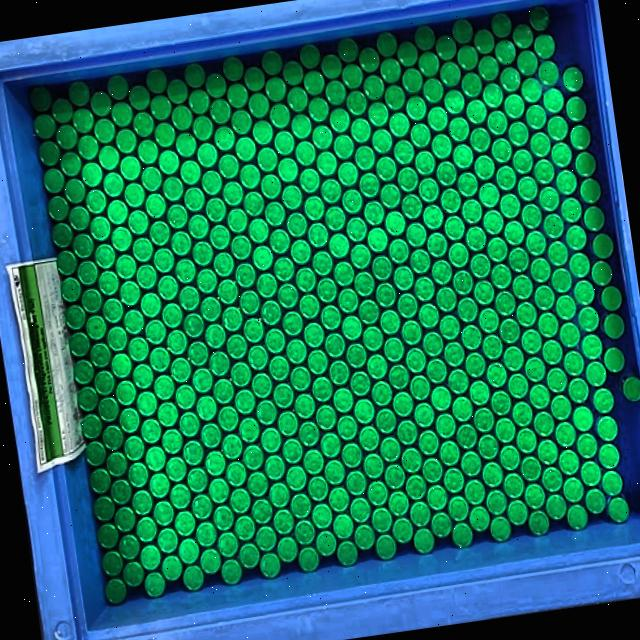vial: (607, 498, 632, 524), (414, 25, 438, 51), (528, 6, 552, 32), (534, 34, 558, 60), (311, 250, 334, 277), (602, 469, 625, 496), (593, 232, 615, 260), (364, 200, 386, 228), (252, 498, 274, 526), (564, 350, 586, 378), (297, 44, 321, 69), (546, 116, 570, 141), (348, 371, 372, 396), (363, 74, 386, 100), (579, 178, 602, 204), (440, 188, 463, 214), (426, 232, 449, 258), (72, 232, 95, 258), (366, 354, 389, 380), (358, 426, 381, 452), (163, 175, 185, 202), (444, 88, 466, 115), (466, 99, 488, 126), (312, 124, 334, 151), (560, 322, 582, 349), (291, 238, 312, 266), (296, 266, 317, 294), (166, 456, 187, 484), (28, 88, 52, 112), (452, 20, 476, 44), (260, 428, 284, 452), (596, 418, 620, 442), (72, 109, 95, 134), (329, 233, 352, 258), (307, 223, 330, 248), (111, 102, 133, 128), (124, 182, 146, 208), (78, 135, 100, 161), (81, 162, 103, 188), (376, 32, 398, 58), (522, 78, 544, 104), (470, 128, 492, 154), (428, 106, 450, 132), (346, 89, 368, 115), (538, 62, 560, 88), (543, 89, 565, 115), (530, 130, 552, 156), (397, 167, 419, 193), (380, 184, 402, 210), (401, 194, 423, 220), (457, 172, 479, 198), (538, 187, 560, 213), (560, 198, 582, 224), (444, 216, 466, 242), (547, 241, 569, 267), (530, 258, 552, 284), (474, 280, 496, 306), (440, 314, 462, 340), (384, 210, 406, 236), (325, 206, 347, 232), (304, 195, 326, 221), (304, 322, 326, 348), (264, 201, 286, 227), (260, 300, 282, 326), (188, 215, 210, 241), (157, 528, 179, 554), (521, 329, 543, 355), (444, 468, 466, 494), (593, 389, 615, 415), (422, 77, 443, 104), (368, 101, 389, 128), (150, 220, 171, 247), (150, 472, 170, 500), (562, 68, 585, 92), (591, 261, 614, 285), (401, 320, 424, 344), (578, 308, 601, 332), (228, 84, 250, 109), (230, 110, 252, 135), (222, 182, 244, 207), (132, 112, 154, 137), (461, 73, 483, 98), (517, 51, 539, 76), (449, 117, 471, 142), (316, 151, 338, 176), (552, 142, 574, 167), (556, 170, 578, 195), (436, 161, 458, 186), (504, 222, 526, 247), (392, 266, 414, 291), (342, 316, 364, 341), (317, 278, 339, 303), (270, 230, 292, 255), (226, 334, 248, 359), (192, 241, 214, 266), (69, 331, 91, 356), (140, 419, 162, 444), (196, 522, 218, 547), (573, 406, 595, 431), (146, 68, 167, 94), (253, 120, 274, 146), (478, 56, 499, 82), (406, 96, 427, 122), (500, 66, 521, 92), (411, 122, 432, 148), (389, 112, 410, 138), (372, 129, 393, 155), (351, 118, 372, 144), (325, 80, 346, 106), (479, 183, 500, 209), (584, 206, 605, 232), (552, 268, 573, 294), (419, 303, 440, 329), (359, 299, 380, 325), (334, 260, 355, 286), (338, 288, 359, 314), (265, 328, 286, 354), (201, 296, 222, 322), (98, 396, 119, 422), (105, 578, 126, 604), (414, 402, 435, 428), (426, 358, 447, 384), (449, 496, 470, 522), (219, 153, 239, 180), (292, 114, 312, 141), (218, 406, 238, 433), (535, 411, 555, 438), (530, 511, 550, 538), (68, 82, 90, 106), (107, 76, 129, 100), (274, 132, 296, 156), (282, 186, 304, 210), (180, 161, 202, 185), (298, 169, 320, 193), (566, 96, 588, 120), (570, 126, 592, 150), (512, 151, 534, 175), (544, 216, 566, 240), (566, 226, 588, 250), (534, 286, 556, 310), (486, 238, 508, 262), (448, 242, 470, 266), (422, 204, 444, 228), (388, 240, 410, 264), (359, 172, 381, 196), (376, 284, 398, 308), (286, 213, 308, 237), (299, 294, 321, 318), (274, 257, 296, 281), (282, 314, 304, 338), (256, 273, 278, 297), (230, 236, 252, 260), (235, 264, 257, 288), (209, 225, 231, 249), (76, 260, 98, 284), (64, 306, 86, 330), (154, 374, 176, 398), (84, 441, 106, 465), (106, 452, 128, 476), (154, 502, 176, 526), (182, 566, 204, 590), (268, 356, 290, 380), (504, 347, 526, 371), (508, 501, 530, 525), (586, 362, 608, 386), (568, 378, 590, 402), (577, 434, 599, 458), (582, 336, 604, 360), (155, 123, 176, 148), (91, 92, 112, 117), (104, 173, 125, 198), (90, 216, 111, 241), (526, 105, 547, 130), (377, 155, 398, 180), (482, 210, 503, 235), (574, 280, 595, 305), (517, 302, 538, 327), (478, 308, 499, 333), (290, 368, 311, 393), (393, 391, 414, 416), (448, 369, 469, 394), (304, 449, 325, 474), (48, 196, 68, 222), (394, 140, 414, 166), (330, 108, 350, 134), (334, 134, 354, 160), (338, 162, 358, 188), (570, 252, 590, 278), (458, 298, 478, 324), (432, 260, 452, 286), (414, 276, 434, 302), (398, 292, 418, 318), (372, 255, 392, 281), (342, 189, 362, 215), (355, 271, 375, 297), (176, 258, 196, 284), (180, 286, 200, 312), (163, 302, 183, 328), (232, 362, 252, 388), (372, 380, 392, 406), (466, 479, 486, 505), (526, 484, 546, 510), (316, 532, 336, 558), (432, 512, 452, 538), (140, 167, 162, 190), (34, 115, 56, 138), (320, 180, 342, 203), (252, 247, 274, 270), (132, 365, 154, 388), (162, 431, 184, 454), (222, 561, 244, 584), (252, 374, 274, 397), (556, 423, 578, 446), (276, 412, 298, 435), (600, 445, 622, 468), (223, 58, 244, 82), (249, 94, 270, 118), (240, 166, 261, 190), (206, 74, 227, 98), (176, 134, 197, 158), (117, 130, 138, 154), (95, 120, 116, 144), (86, 190, 107, 214), (381, 59, 402, 83), (385, 86, 406, 110), (342, 64, 363, 88), (355, 146, 376, 170), (308, 98, 329, 122), (288, 88, 309, 112), (295, 142, 316, 166), (534, 160, 555, 184), (475, 156, 496, 180), (432, 135, 453, 159), (419, 178, 440, 202), (526, 232, 547, 256), (508, 249, 529, 273), (512, 276, 533, 300), (436, 288, 457, 312), (406, 222, 427, 246), (320, 306, 341, 330), (278, 284, 299, 308), (243, 318, 264, 342), (213, 252, 234, 276), (205, 324, 226, 348), (133, 238, 154, 262), (95, 244, 116, 268), (141, 294, 162, 318), (81, 289, 102, 313), (213, 379, 234, 403), (91, 344, 112, 368), (104, 426, 125, 450), (158, 402, 179, 426), (136, 518, 157, 542), (119, 534, 140, 558), (175, 511, 196, 535), (162, 556, 183, 580), (209, 479, 230, 503), (247, 472, 268, 496), (457, 424, 478, 448), (328, 361, 349, 385), (431, 387, 452, 411), (467, 353, 488, 377), (504, 472, 525, 496), (546, 496, 567, 520), (202, 171, 222, 196), (172, 106, 192, 131), (38, 141, 58, 166), (505, 95, 525, 120), (304, 71, 324, 96), (576, 153, 596, 178), (496, 165, 516, 190), (466, 226, 486, 251), (410, 249, 430, 274), (351, 245, 371, 270), (248, 218, 268, 243), (154, 248, 174, 273), (120, 281, 140, 306), (102, 298, 122, 323), (146, 319, 166, 344), (74, 359, 94, 384), (115, 508, 135, 533), (377, 409, 397, 434), (436, 413, 456, 438), (496, 419, 516, 444), (543, 341, 563, 366), (272, 383, 292, 408), (342, 443, 362, 468), (282, 439, 302, 464), (287, 466, 307, 491), (329, 487, 349, 512), (346, 471, 366, 496), (368, 481, 388, 506), (410, 502, 430, 527), (568, 506, 588, 531), (339, 38, 358, 64), (57, 250, 76, 276), (193, 494, 212, 520), (382, 436, 401, 462), (116, 382, 138, 404), (140, 546, 162, 568), (238, 544, 260, 566), (238, 419, 260, 441), (380, 311, 402, 333), (294, 394, 316, 416), (185, 64, 206, 87), (492, 15, 513, 38), (419, 52, 440, 75), (483, 85, 504, 108), (556, 297, 577, 320), (94, 371, 115, 394), (290, 494, 311, 517), (257, 401, 278, 424), (474, 409, 495, 432), (350, 499, 371, 522), (332, 516, 353, 539), (262, 52, 282, 76), (266, 78, 286, 102), (270, 104, 290, 128), (245, 68, 265, 92), (258, 147, 278, 171), (262, 174, 282, 198), (244, 192, 264, 216), (210, 100, 230, 124), (214, 127, 234, 151), (194, 116, 214, 140), (197, 143, 217, 167), (168, 80, 188, 104), (184, 188, 204, 212), (158, 150, 178, 174), (138, 140, 158, 164), (146, 194, 166, 218), (129, 210, 149, 234), (100, 146, 120, 170), (108, 200, 128, 224), (44, 170, 64, 194), (52, 224, 72, 248), (496, 40, 516, 64), (458, 46, 478, 70), (436, 36, 456, 60), (440, 64, 460, 88), (398, 42, 418, 66), (402, 70, 422, 94), (488, 112, 508, 136), (322, 55, 342, 79), (508, 122, 528, 146), (492, 138, 512, 162), (454, 144, 474, 168), (415, 152, 435, 176), (501, 194, 521, 218), (522, 204, 542, 228), (462, 200, 482, 224), (602, 286, 622, 310), (492, 266, 512, 290), (496, 292, 516, 316), (470, 254, 490, 278), (346, 218, 366, 242), (240, 292, 260, 316), (222, 307, 242, 331), (112, 228, 132, 252), (60, 279, 80, 303), (116, 254, 136, 278), (171, 358, 191, 382), (210, 351, 230, 375), (176, 386, 196, 410), (128, 338, 148, 362), (112, 354, 132, 378), (78, 387, 98, 411), (124, 437, 144, 461), (102, 552, 122, 576), (179, 540, 199, 564), (231, 489, 251, 513), (219, 533, 239, 557), (259, 554, 279, 578), (256, 526, 276, 550), (274, 511, 294, 535), (270, 483, 290, 507), (265, 456, 285, 480), (324, 334, 344, 358), (500, 320, 520, 344), (462, 452, 482, 476), (500, 446, 520, 470), (410, 376, 430, 400), (513, 402, 533, 426), (470, 382, 490, 406), (444, 342, 464, 366), (509, 375, 529, 399), (542, 468, 562, 492), (299, 422, 319, 446), (364, 454, 384, 478), (406, 476, 426, 500), (428, 486, 448, 510), (312, 504, 332, 528), (326, 460, 346, 484), (376, 536, 396, 560), (392, 519, 412, 543), (415, 530, 435, 554), (491, 518, 511, 542), (389, 490, 408, 515), (338, 542, 357, 567), (582, 460, 601, 485), (190, 88, 208, 114), (125, 311, 146, 333), (201, 424, 222, 446), (244, 446, 265, 468), (539, 314, 560, 336), (516, 430, 537, 452), (422, 460, 443, 482), (385, 465, 406, 487), (605, 350, 626, 372), (168, 205, 188, 228), (130, 88, 150, 111), (120, 157, 140, 180), (54, 99, 74, 122), (514, 25, 534, 48), (368, 229, 388, 252), (228, 209, 248, 232), (166, 331, 186, 354), (184, 315, 204, 338), (192, 368, 212, 391), (235, 390, 255, 413), (196, 397, 216, 420), (150, 348, 170, 371), (120, 409, 140, 432), (180, 414, 200, 437), (94, 498, 114, 521), (123, 563, 143, 586), (214, 506, 234, 529), (200, 549, 220, 572), (522, 458, 542, 481), (406, 348, 426, 371), (317, 407, 337, 430), (338, 416, 358, 439), (279, 158, 298, 182), (237, 138, 256, 162), (360, 48, 379, 72), (112, 481, 131, 505), (309, 350, 328, 374), (385, 338, 404, 362), (389, 364, 408, 388), (453, 397, 472, 421), (488, 364, 507, 388), (152, 95, 170, 120), (452, 272, 472, 294), (218, 281, 238, 303), (196, 270, 216, 292), (108, 328, 128, 350), (188, 342, 208, 364), (146, 446, 166, 468), (130, 464, 150, 486), (90, 469, 110, 491), (145, 574, 165, 596), (223, 436, 243, 458), (299, 550, 319, 572), (288, 340, 308, 362), (346, 344, 366, 366), (483, 336, 503, 358), (418, 431, 438, 453), (440, 443, 460, 465), (538, 442, 558, 464), (492, 392, 512, 414), (402, 450, 422, 472), (320, 434, 340, 456), (308, 478, 328, 500), (454, 524, 474, 546), (470, 508, 490, 530), (586, 491, 606, 513), (606, 316, 626, 338), (62, 154, 81, 177), (475, 30, 494, 53), (283, 62, 302, 85), (172, 231, 191, 254), (82, 416, 101, 439), (313, 378, 332, 401), (206, 198, 224, 222), (58, 126, 76, 150), (66, 179, 84, 203), (100, 271, 118, 295), (159, 276, 177, 300), (87, 314, 105, 338), (138, 392, 156, 416), (98, 524, 116, 548), (248, 344, 266, 368), (564, 478, 582, 502), (356, 526, 374, 550), (623, 377, 640, 402), (184, 442, 204, 463), (296, 521, 316, 542), (479, 436, 499, 457), (526, 357, 546, 378), (171, 486, 190, 508), (207, 452, 226, 474), (356, 402, 375, 424), (398, 422, 417, 444), (530, 386, 549, 408), (552, 396, 571, 418), (373, 510, 392, 532), (70, 207, 88, 230), (188, 468, 206, 491), (364, 326, 382, 349), (488, 492, 505, 516), (226, 464, 246, 484), (236, 519, 256, 539), (518, 177, 536, 199), (138, 266, 156, 288), (134, 492, 152, 514), (278, 540, 296, 562), (424, 332, 442, 354), (548, 370, 566, 392), (463, 327, 481, 348), (334, 389, 352, 410), (561, 452, 579, 473), (484, 464, 501, 484)
